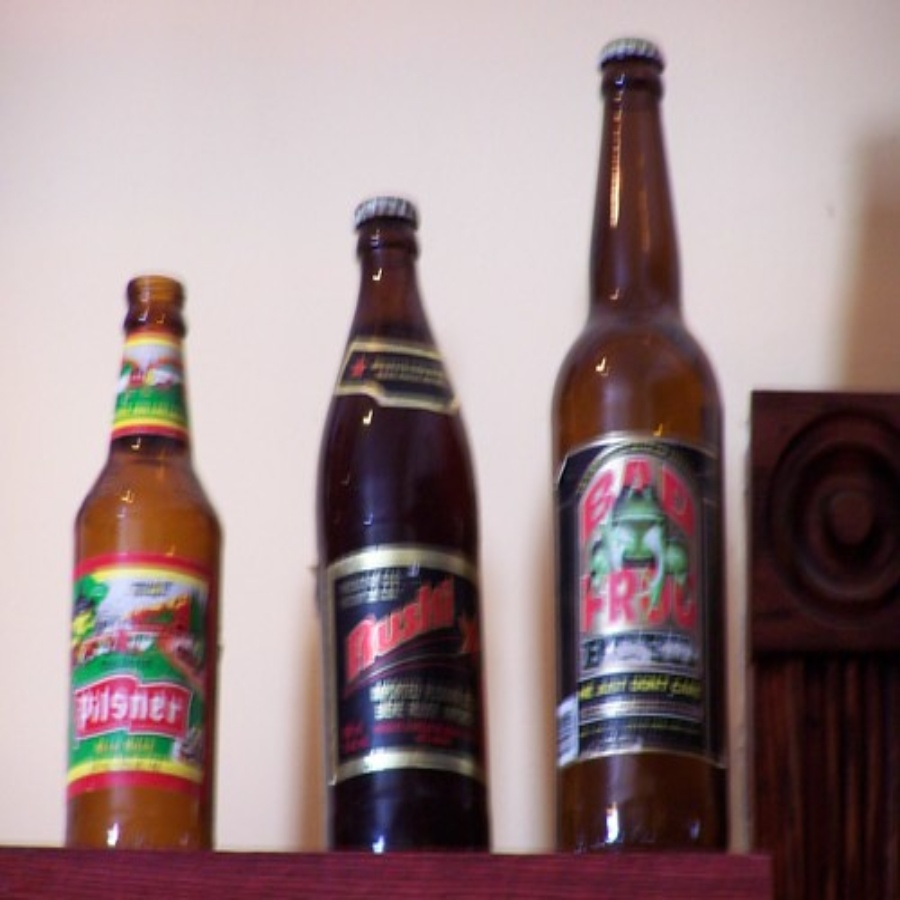beer: (563, 37, 730, 861), (302, 180, 502, 859), (52, 277, 226, 854)
